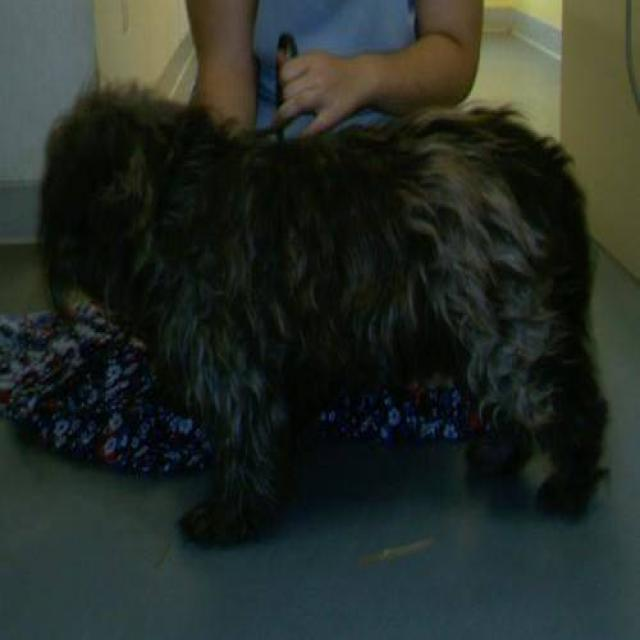dog: (36, 75, 612, 548)
